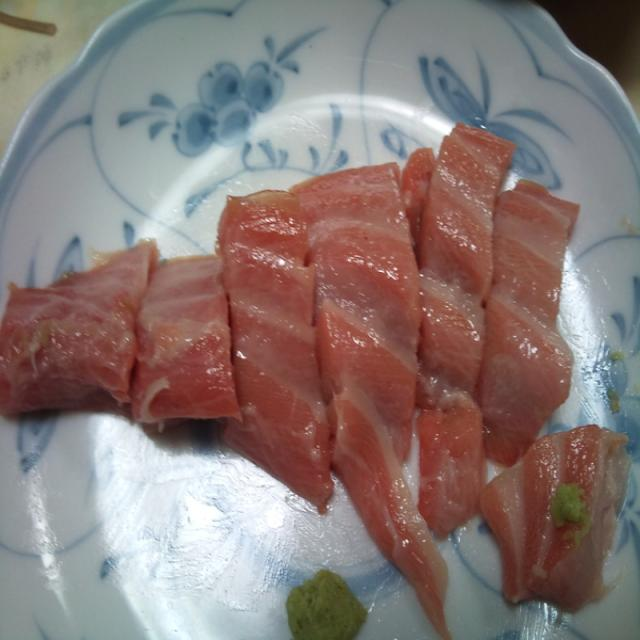刺身生食: (12, 126, 632, 640)
